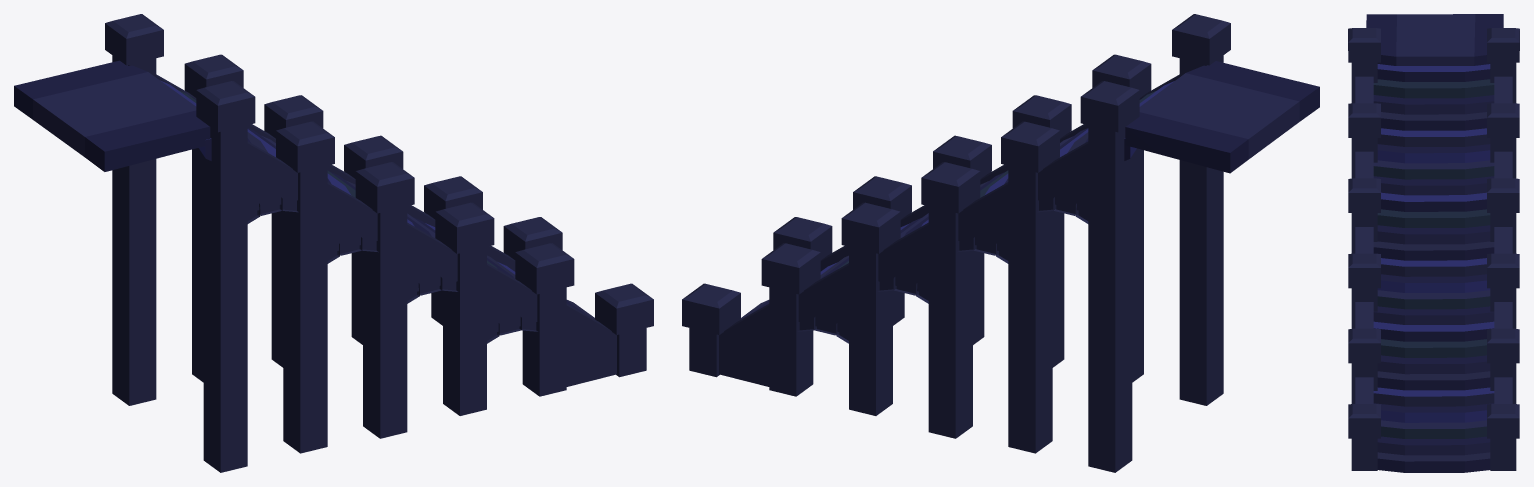
File: ladder 1.fbx
3 renders of one model, left to right at view 1: azimuth 30°, elevation 25°; view 2: azimuth 150°, elevation 25°; view 3: azimuth 270°, elevation 25°, orthographic. The views are drawn at different scales.
Visible parts, largest first — view 1: Cube.028; view 2: Cube.028; view 3: Cube.028.
Part boxes in pixels (x1,y1,x2,y2): Cube.028: (14, 14, 653, 472); Cube.028: (682, 14, 1319, 472); Cube.028: (1348, 14, 1519, 472).
Bounding box in the file's own units: 3427 × 2303 × 1247.
